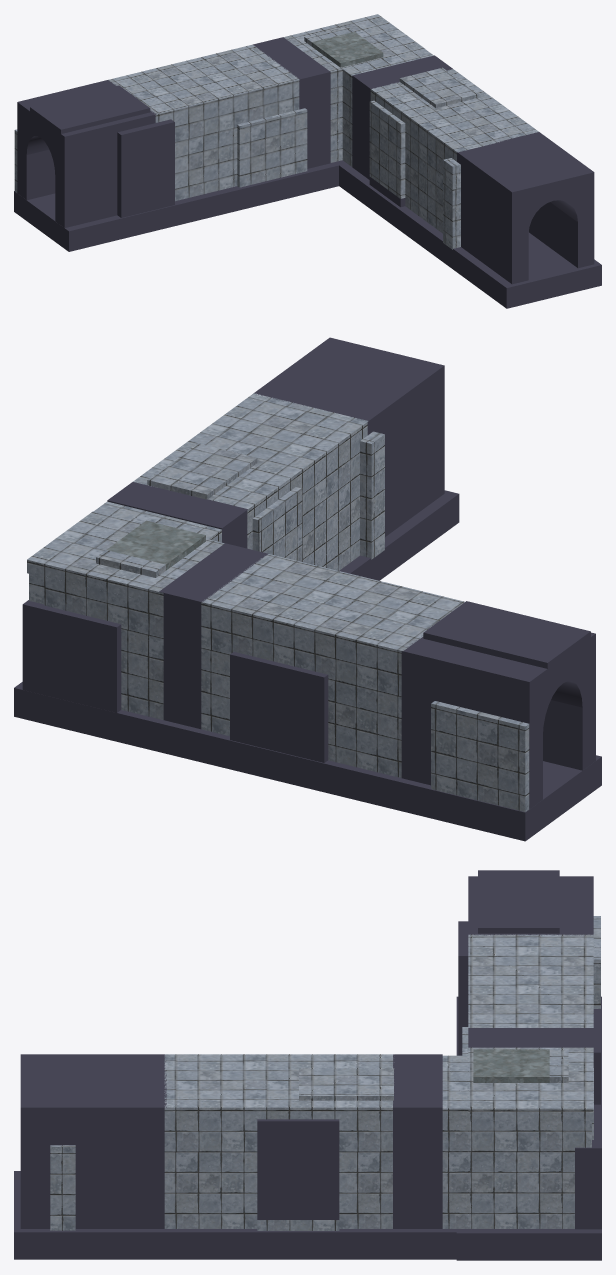
Rendered from RightHallway.fbx.
The picture shows the model from 3 angles, top to bottom: view 1: azimuth 30°, elevation 25°; view 2: azimuth 150°, elevation 25°; view 3: azimuth 270°, elevation 25°; orthographic projection. The views are drawn at different scales.
Parts seen in each view (by area): view 1: block_gate% (×6), block (×10); view 2: block_gate% (×6), block (×13); view 3: block_gate% (×6), block (×21).
Part boxes in pixels (box(x1,y1,x2,y2)): block_gate% (×6): box(17, 37, 594, 284); block (×10): box(14, 14, 601, 308); block_gate% (×6): box(107, 337, 595, 809); block (×13): box(14, 431, 601, 841); block_gate% (×6): box(20, 876, 593, 1228); block (×21): box(14, 870, 601, 1260).
Size of the model in its own units: 61.55 by 18.65 by 64.67.
